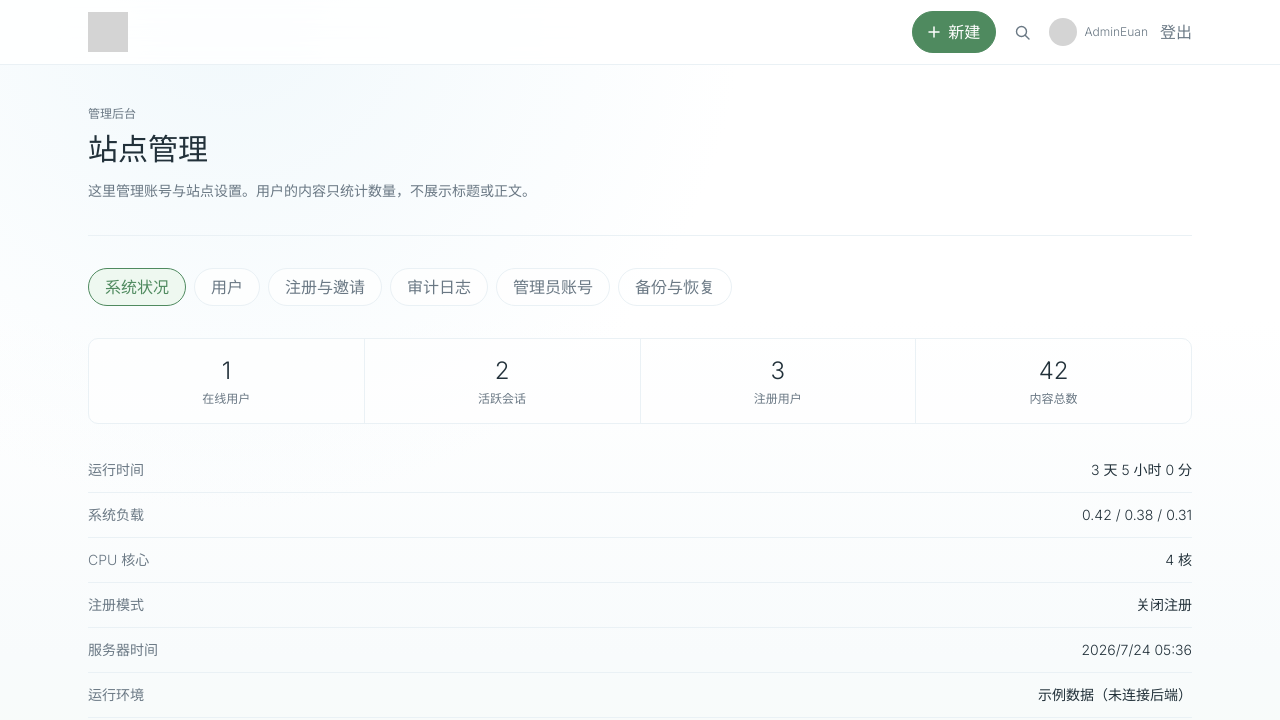
Test case: admin console › offers the three sort orders the spec asks for
Click the button "用户": [227, 287] box [194,268,260,306]
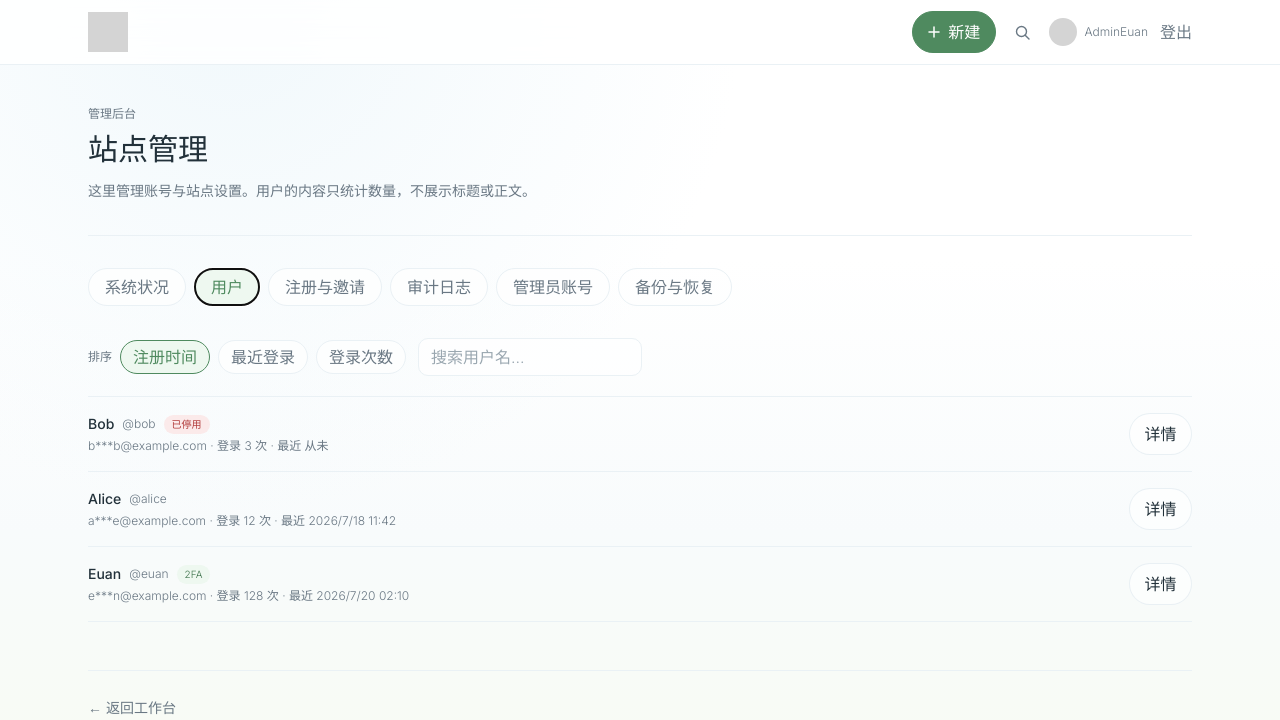
Check: the button "注册时间" is shown, box [120,340,210,374]
Check: the button "最近登录" is shown, box [218,340,308,374]
Check: the button "登录次数" is shown, box [316,340,406,374]
